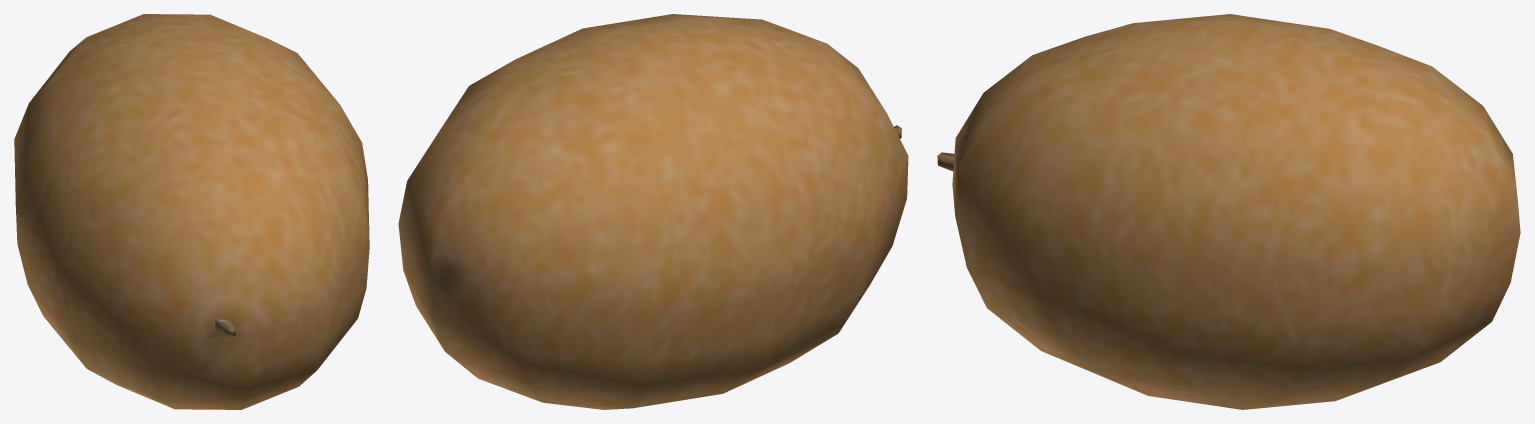
The model's file is SM_SP_FruitsMelon01.fbx.
The picture shows the model from 3 angles, left to right: view 1: azimuth 30°, elevation 25°; view 2: azimuth 150°, elevation 25°; view 3: azimuth 270°, elevation 25°; orthographic projection. The views are drawn at different scales.
Visible parts, largest first — view 1: SM_SP_FruitsMelon01_LOD0; view 2: SM_SP_FruitsMelon01_LOD0; view 3: SM_SP_FruitsMelon01_LOD0.
Boxes of the visible parts, x1,y1,x2,y2 form: SM_SP_FruitsMelon01_LOD0: [14, 14, 369, 409]; SM_SP_FruitsMelon01_LOD0: [398, 14, 908, 409]; SM_SP_FruitsMelon01_LOD0: [937, 14, 1520, 409].
Size of the model in its own units: 15.32 by 20.91 by 14.14.
Materials: 1 (1 with a texture image).
